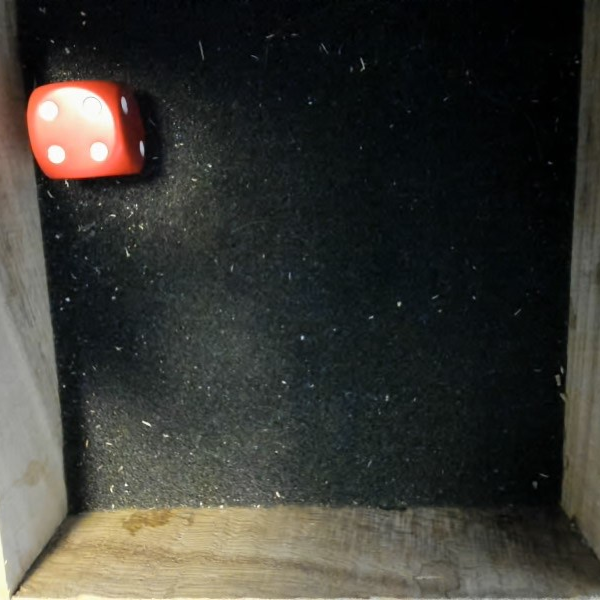red_die_pip4: (24, 70, 152, 187)
